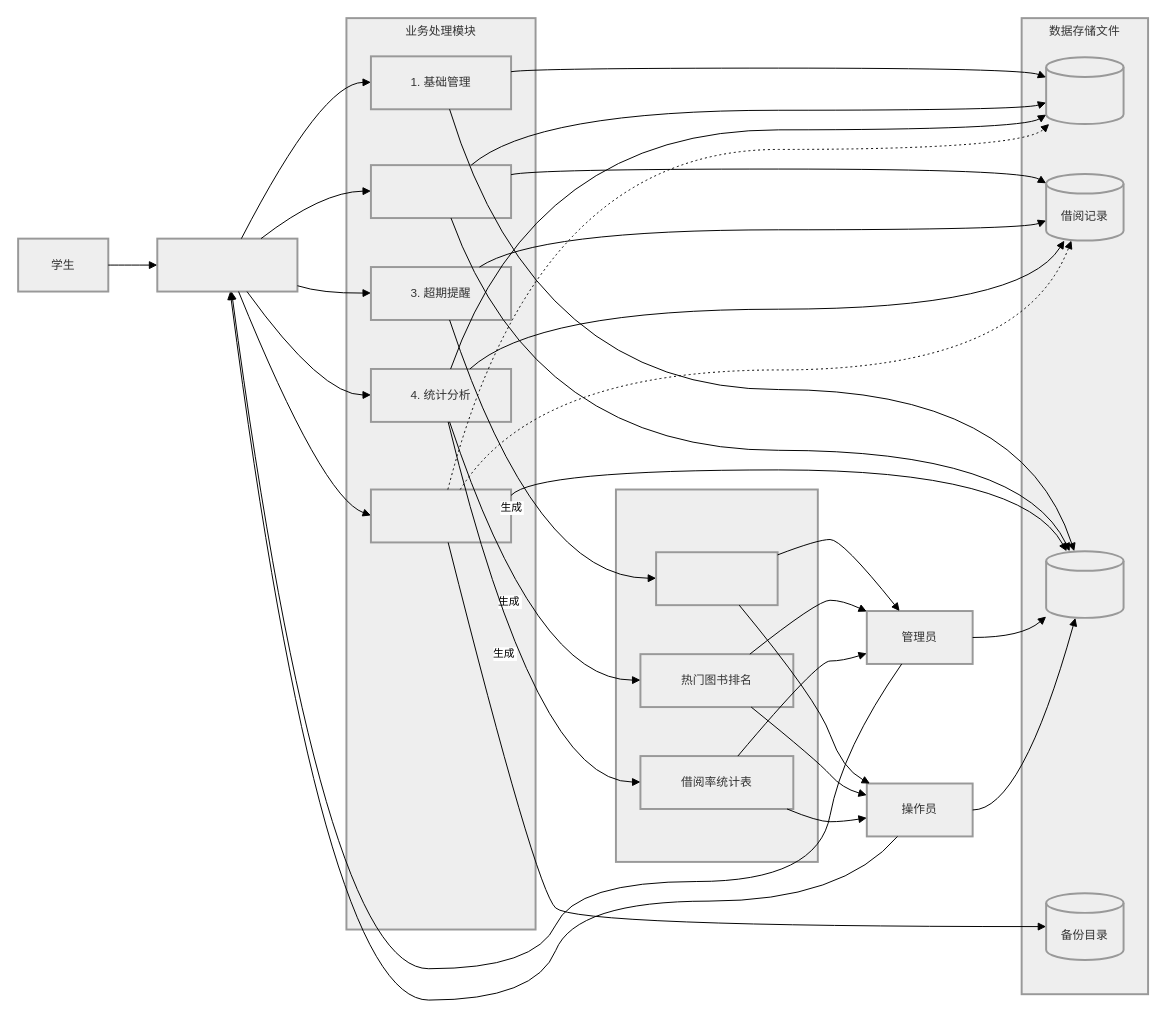
Image size: 1165x1017. Some labels were removed from this diagram. The centre of each missing label's shape, as x and y in pixels:
2. 借阅归还: point (440, 191)
5. 数据维护: point (440, 515)
6. 权限管控: point (227, 264)
图书信息: point (1084, 90)
操作日志: point (1084, 584)
超期名单: point (716, 578)
